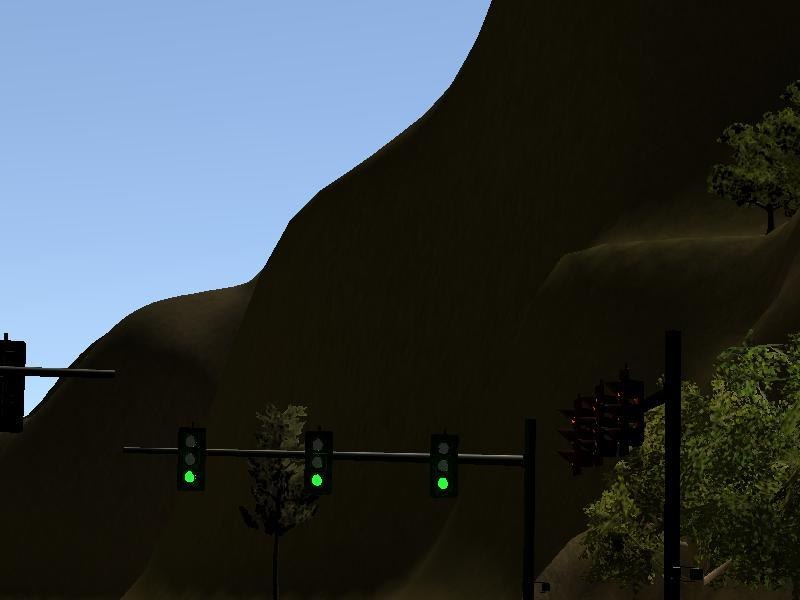Green: (429, 426, 459, 498), (303, 434, 331, 505), (175, 426, 203, 494)
